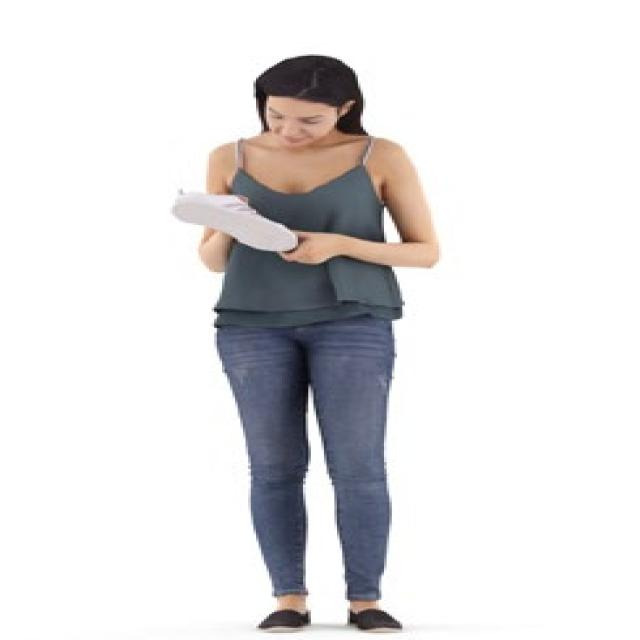standing: (194, 52, 441, 634)
